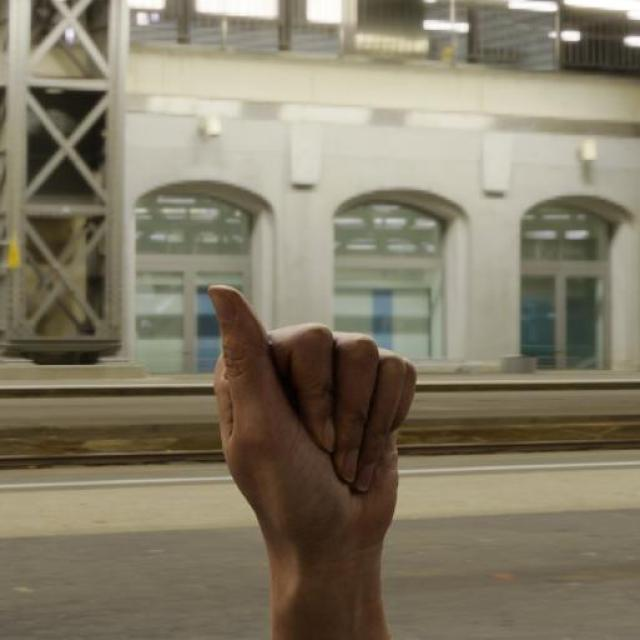A: (195, 274, 425, 558)
